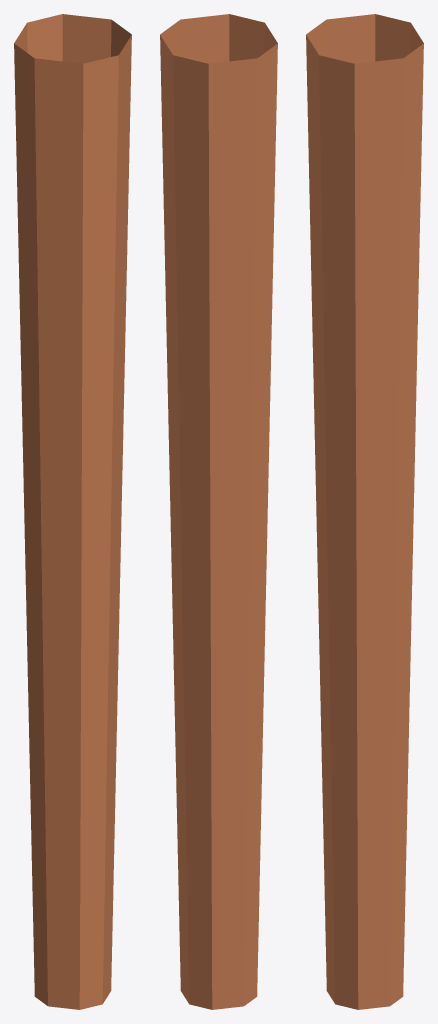
Rendered from prop_torch_1.glb.
The picture shows the model from 3 angles, left to right: view 1: azimuth 30°, elevation 25°; view 2: azimuth 150°, elevation 25°; view 3: azimuth 330°, elevation 25°; orthographic projection.
Visible parts, largest first — view 1: Props with out snow_Torch 1_0; view 2: Props with out snow_Torch 1_0; view 3: Props with out snow_Torch 1_0.
Part boxes in pixels (bbox=[...]): Props with out snow_Torch 1_0: bbox=[14, 14, 131, 1009]; Props with out snow_Torch 1_0: bbox=[160, 14, 277, 1009]; Props with out snow_Torch 1_0: bbox=[306, 14, 423, 1009].
Size of the model in its own units: 0.0965 by 0.9035 by 0.0965.
